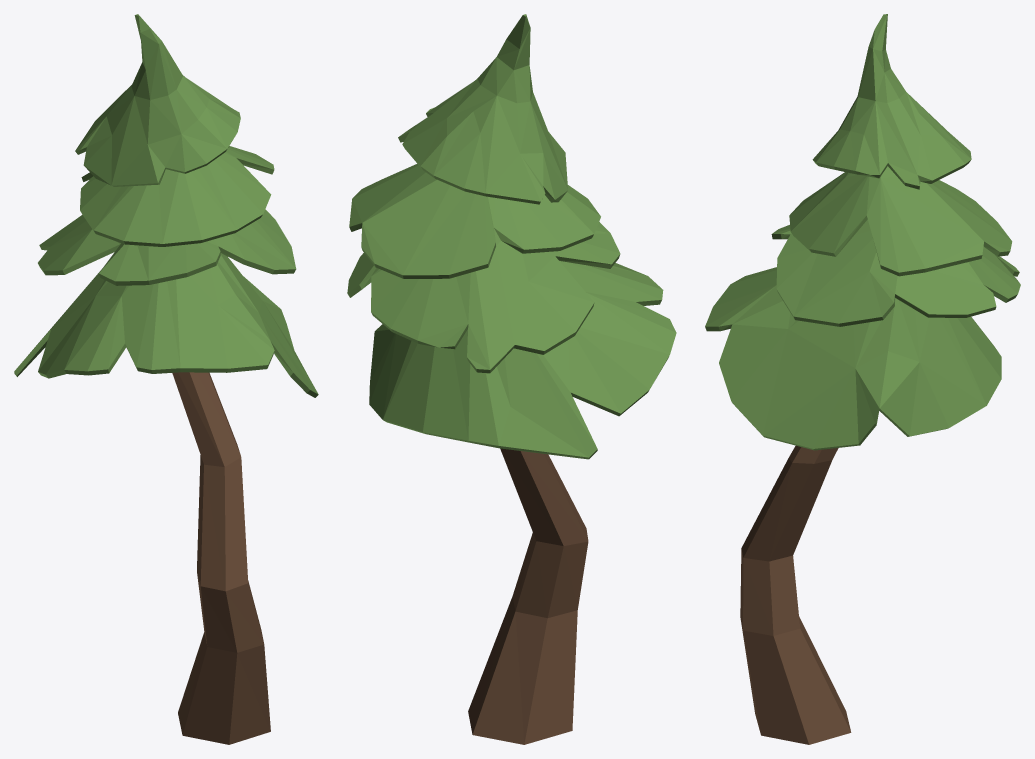
The model's file is PineTree_4.glb.
3 views of the same model, side by side, from view 1: azimuth 30°, elevation 25°; view 2: azimuth 150°, elevation 25°; view 3: azimuth 270°, elevation 25° (orthographic). The views are drawn at different scales.
Visible parts, largest first — view 1: PineTree_4; view 2: PineTree_4; view 3: PineTree_4.
Part boxes in pixels (<box>): PineTree_4: <box>14,14,318,744</box>; PineTree_4: <box>347,14,676,744</box>; PineTree_4: <box>705,14,1020,744</box>.
Bounding box in the file's own units: 1.25 × 3.34 × 1.39.
